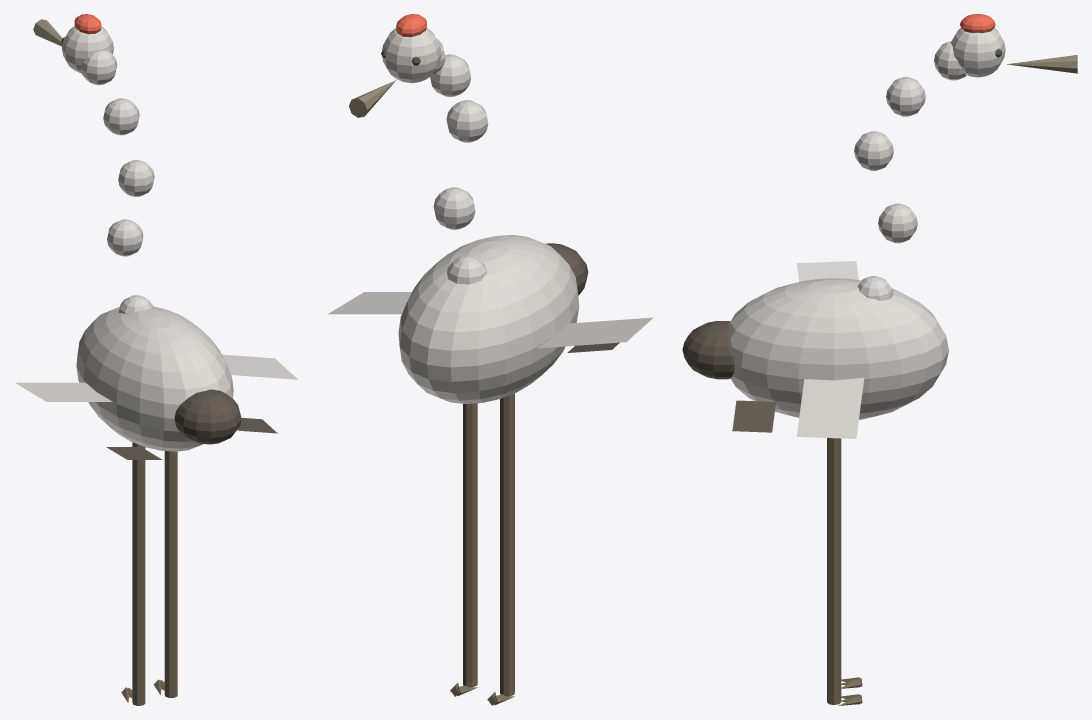
The model's file is crane.glb.
3 renders of one model, left to right at view 1: azimuth 30°, elevation 25°; view 2: azimuth 150°, elevation 25°; view 3: azimuth 270°, elevation 25°, orthographic. The views are drawn at different scales.
Visible parts, largest first — view 1: crane; view 2: crane; view 3: crane.
Part boxes in pixels (<box>): crane: <box>15,14,298,705</box>; crane: <box>328,14,652,705</box>; crane: <box>682,14,1077,705</box>.
Bounding box in the file's own units: 0.8061 × 1.88 × 0.99.
